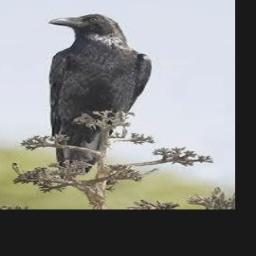Crow: (48, 14, 151, 181)
